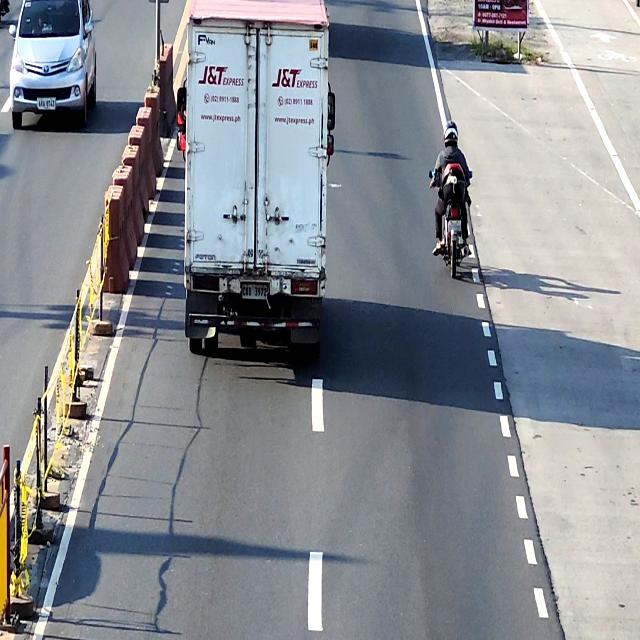Car: (8, 0, 97, 128)
License-Plate: (242, 283, 267, 300), (37, 97, 55, 109), (448, 220, 461, 232)
Motorcycle: (429, 166, 473, 278)
Truck: (176, 0, 335, 356)
